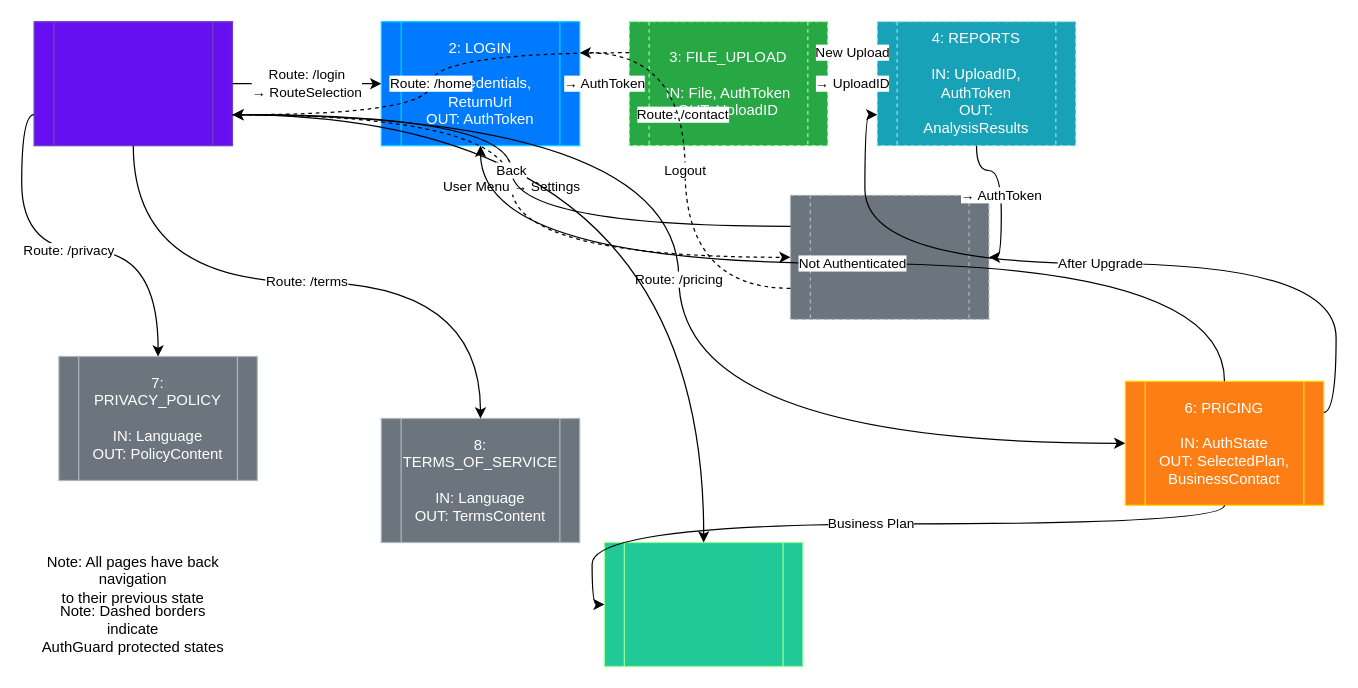
Some shapes in this 1358 by 688 pixel diagram are drawn without their labels. Each missing label, with the box of its shape:
1: HOME IN: - OUT: RouteSelection, AuthState Online/Offline Status: (33, 20, 232, 146)
5: SETTINGS IN: AuthToken OUT: UserPreferences: (789, 194, 989, 319)
9: CONTACT_US IN: UserQuery, BusinessPlan? OUT: SupportTicket: (603, 541, 803, 666)
